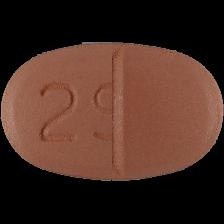68462-293: (0, 0, 224, 224)
